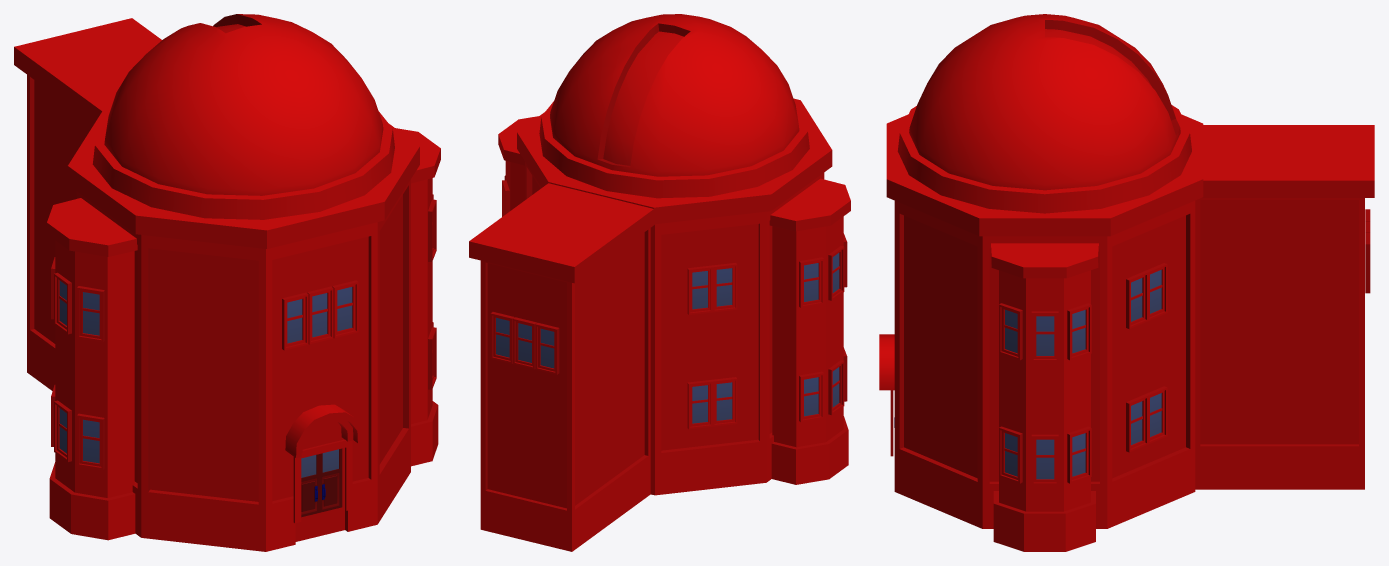
Rendered from buildings-business-observatory_v1.fbx.
3 views of the same model, side by side, from view 1: azimuth 30°, elevation 25°; view 2: azimuth 150°, elevation 25°; view 3: azimuth 270°, elevation 25° (orthographic). The views are drawn at different scales.
Parts seen in each view (by area): view 1: Observatory_base, Observatory_windowRefl; view 2: Observatory_base, Observatory_windowRefl; view 3: Observatory_base, Observatory_windowRefl.
Boxes of the visible parts, box(x1,y1,x2,y2) form: Observatory_base: box(14, 14, 440, 551); Observatory_windowRefl: box(59, 280, 352, 477); Observatory_base: box(469, 14, 850, 551); Observatory_windowRefl: box(496, 253, 839, 423); Observatory_base: box(879, 14, 1374, 551); Observatory_windowRefl: box(1005, 270, 1161, 479).
Size of the model in its own units: 20.14 by 23.53 by 24.09.
